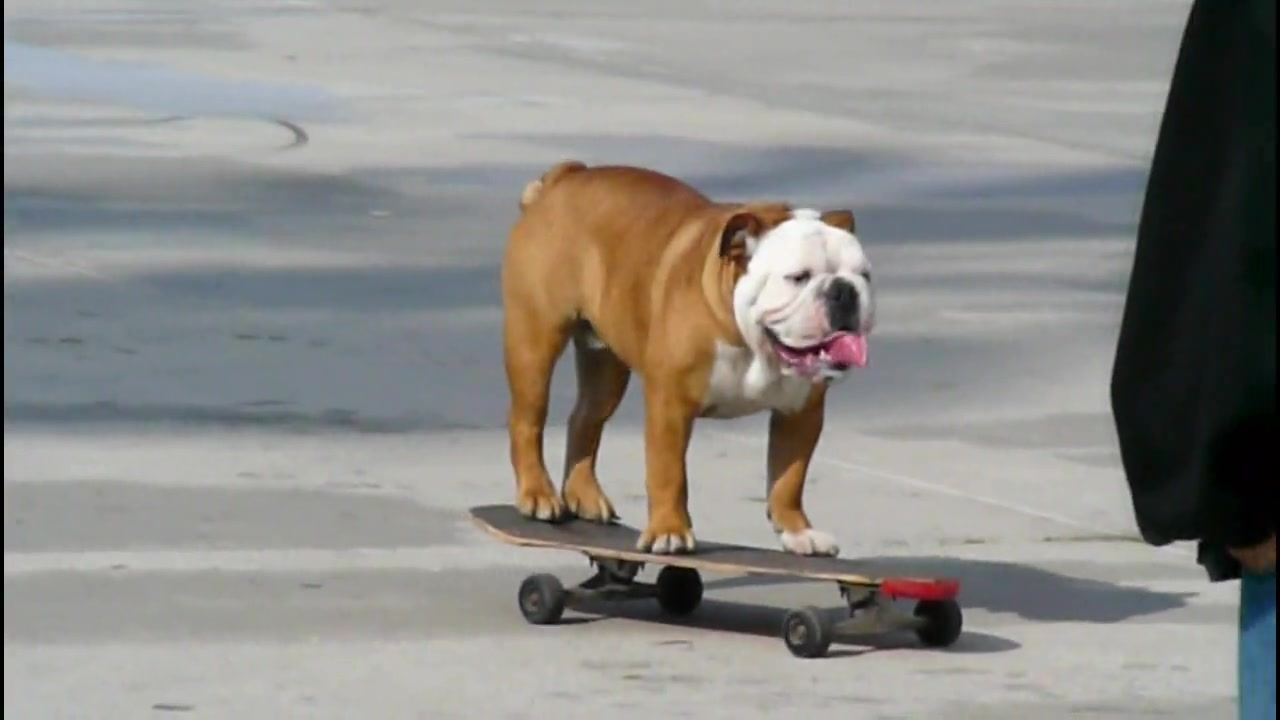dog: (492, 158, 879, 562)
